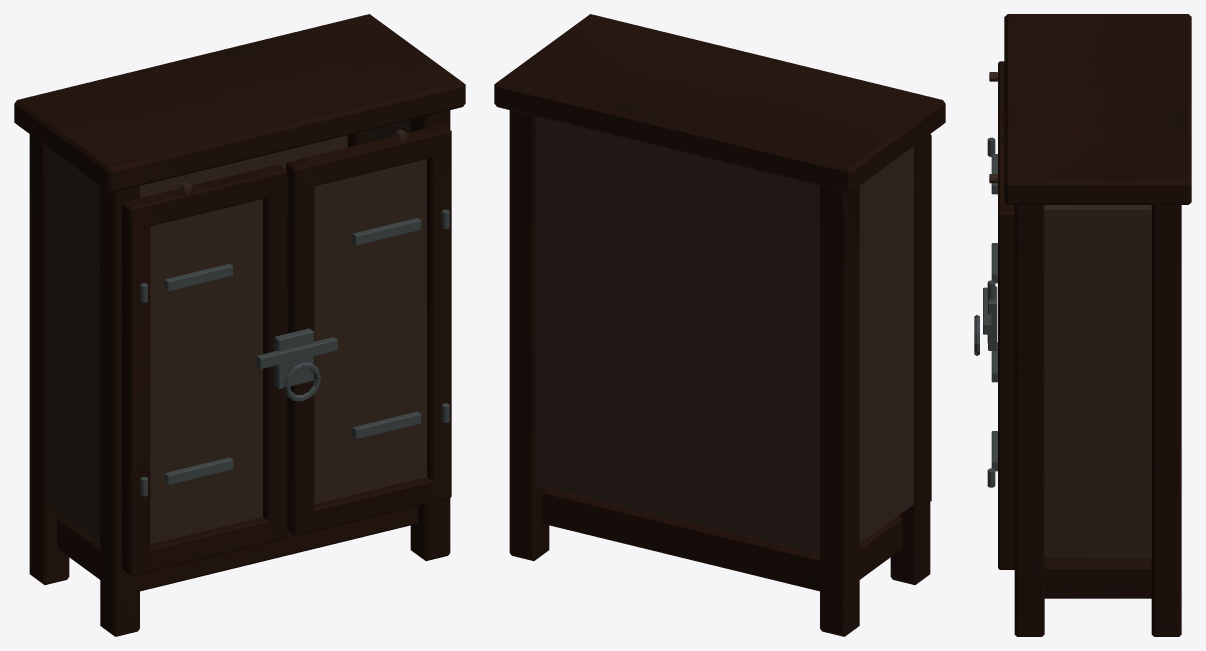
File: burgher_cupboard.glb
3 renders of one model, left to right at view 1: azimuth 30°, elevation 25°; view 2: azimuth 150°, elevation 25°; view 3: azimuth 270°, elevation 25°, orthographic. The views are drawn at different scales.
Parts seen in each view (by area): view 1: BurgherCupboardMesh; view 2: BurgherCupboardMesh; view 3: BurgherCupboardMesh.
Part boxes in pixels (x1,y1,x2,y2): BurgherCupboardMesh: (14,14,465,636); BurgherCupboardMesh: (494,14,945,636); BurgherCupboardMesh: (974,14,1191,636).
Bounding box in the file's own units: 1.2 × 1.52 × 0.6507.
Materials: 3 (1 with a texture image).
